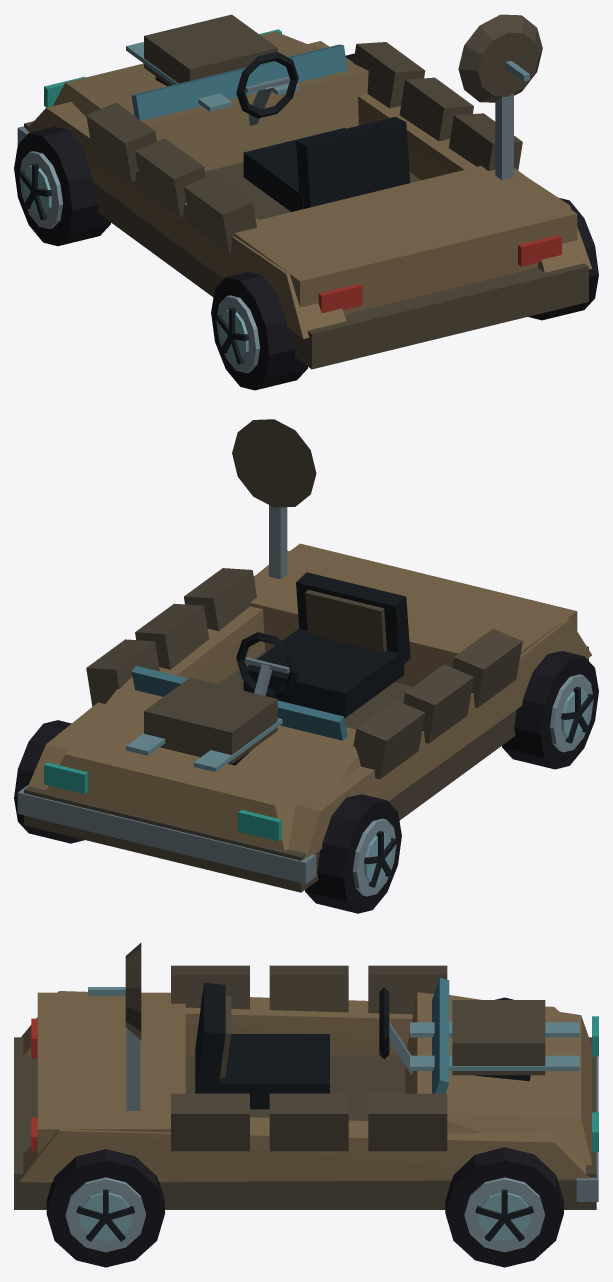
The model's file is kart.glb.
The picture shows the model from 3 angles, top to bottom: view 1: azimuth 30°, elevation 25°; view 2: azimuth 150°, elevation 25°; view 3: azimuth 270°, elevation 25°; orthographic projection.
Parts seen in each view (by area): view 1: identity-muscle-car-muscle-car-road-car-body, identity-muscle-car-motif-armor, identity-muscle-car-driver-cockpit, wheel-front-left, wheel-rear-left, identity-muscle-car-motif-radar, wheel-rear-right; view 2: identity-muscle-car-muscle-car-road-car-body, identity-muscle-car-motif-armor, identity-muscle-car-driver-cockpit, wheel-front-left, wheel-rear-left, identity-muscle-car-motif-radar, wheel-front-right; view 3: identity-muscle-car-muscle-car-road-car-body, identity-muscle-car-motif-armor, wheel-front-right, identity-muscle-car-driver-cockpit, wheel-rear-right, identity-muscle-car-motif-radar.
Boxes of the visible parts, x1,y1,x2,y2 form: identity-muscle-car-muscle-car-road-car-body: (17, 14, 592, 369); identity-muscle-car-motif-armor: (86, 42, 522, 253); identity-muscle-car-driver-cockpit: (236, 52, 409, 211); wheel-front-left: (14, 126, 110, 246); wheel-rear-left: (211, 272, 307, 390); identity-muscle-car-motif-radar: (458, 14, 542, 180); wheel-rear-right: (528, 198, 598, 320); identity-muscle-car-muscle-car-road-car-body: (17, 543, 591, 892); identity-muscle-car-motif-armor: (86, 568, 522, 779); identity-muscle-car-driver-cockpit: (236, 572, 410, 718); wheel-front-left: (305, 794, 401, 913); wheel-rear-left: (502, 651, 598, 769); identity-muscle-car-motif-radar: (232, 419, 316, 579); wheel-front-right: (14, 720, 84, 843); identity-muscle-car-muscle-car-road-car-body: (14, 978, 598, 1209); identity-muscle-car-motif-armor: (171, 965, 447, 1151); wheel-front-right: (445, 1147, 563, 1267); identity-muscle-car-driver-cockpit: (195, 982, 412, 1109); wheel-rear-right: (46, 1149, 164, 1267); identity-muscle-car-motif-radar: (88, 943, 141, 1110).
Bounding box in the file's own units: 2.07 × 1.65 × 2.96.
